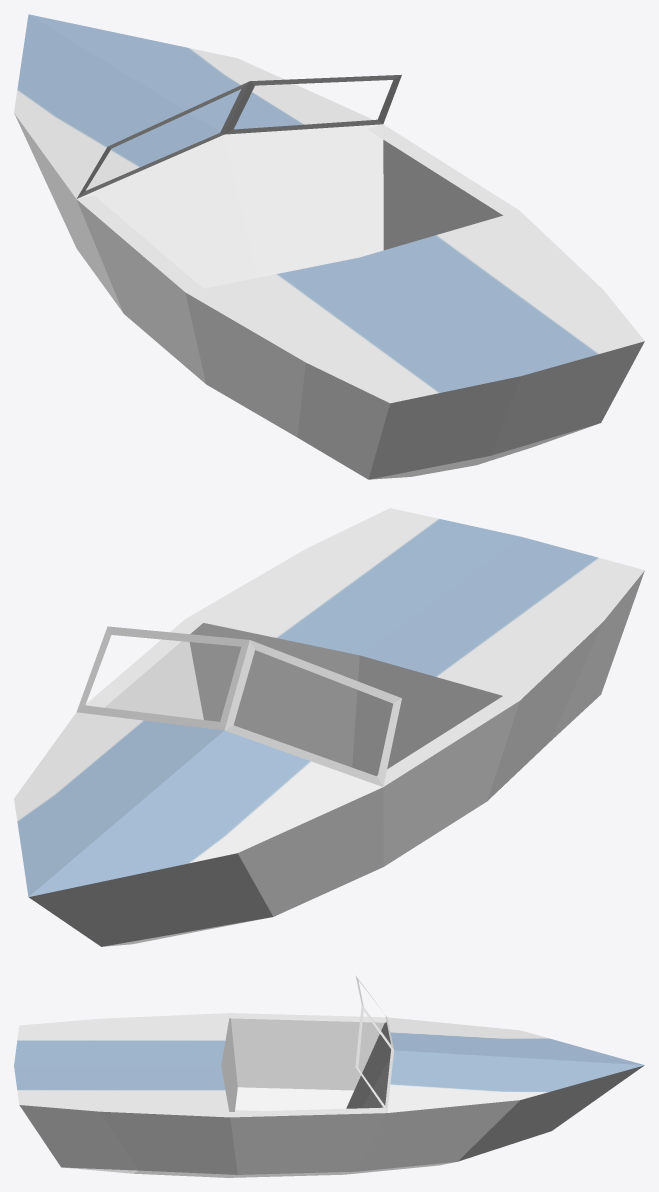
The model's file is boat_player_1.glb.
3 renders of one model, top to bottom at view 1: azimuth 30°, elevation 25°; view 2: azimuth 150°, elevation 25°; view 3: azimuth 270°, elevation 25°, orthographic. The views are drawn at different scales.
Parts seen in each view (by area): view 1: 平面.011; view 2: 平面.011; view 3: 平面.011.
Part boxes in pixels (x1,y1,x2,y2): 平面.011: (14,14,644,479); 平面.011: (14,508,644,946); 平面.011: (14,975,644,1177).
Bounding box in the file's own units: 2.02 × 1.26 × 5.15.
1 material, 1 textured.
